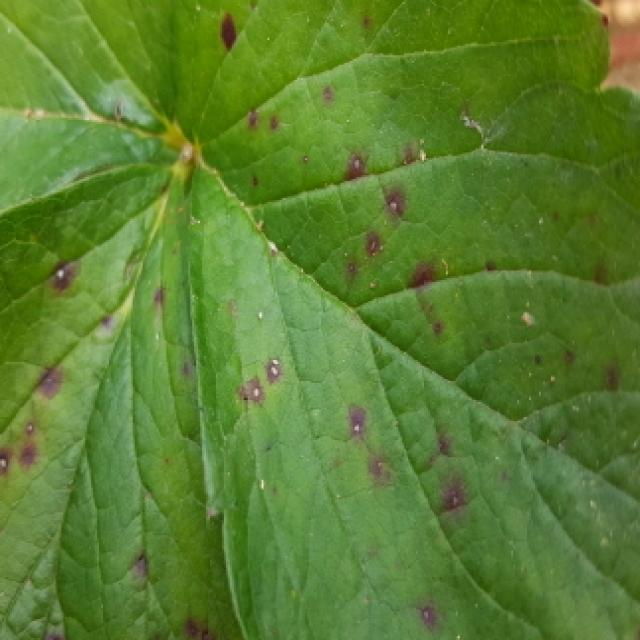Leaf Spot: (176, 0, 640, 640), (0, 165, 240, 640)
